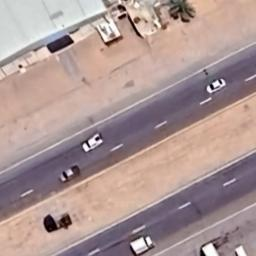sedan: (206, 78, 226, 94)
truck: (129, 235, 155, 256), (202, 242, 220, 256), (234, 243, 248, 256)
van: (80, 132, 104, 153), (58, 166, 80, 182)
